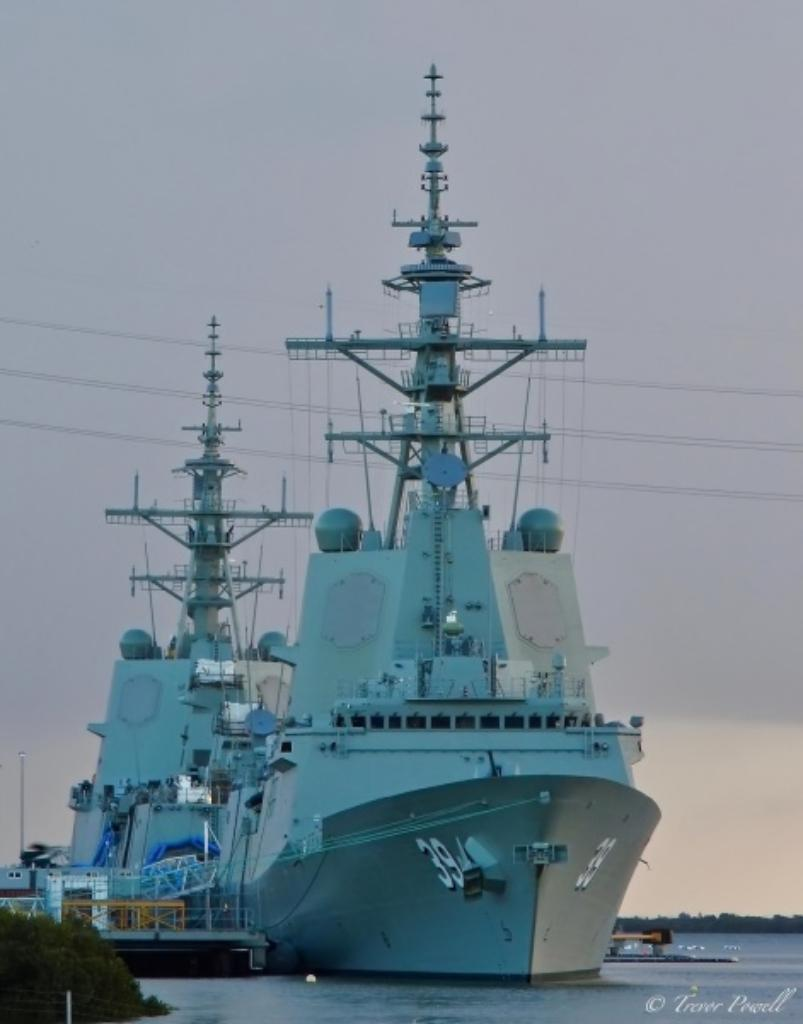Warship: (212, 54, 660, 984), (71, 312, 317, 928)
